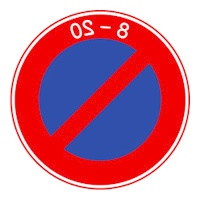Prohibition_sign: (4, 5, 198, 194)
